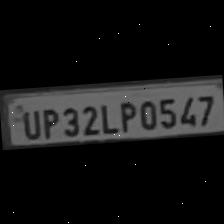0: (135, 97, 157, 130)
2: (78, 102, 100, 135)
3: (58, 104, 80, 136)
4: (176, 92, 196, 128)
5: (154, 94, 176, 129)
7: (194, 91, 214, 126)
L: (96, 99, 116, 134)
P: (114, 97, 136, 132), (38, 105, 60, 138)
U: (16, 106, 39, 140)
